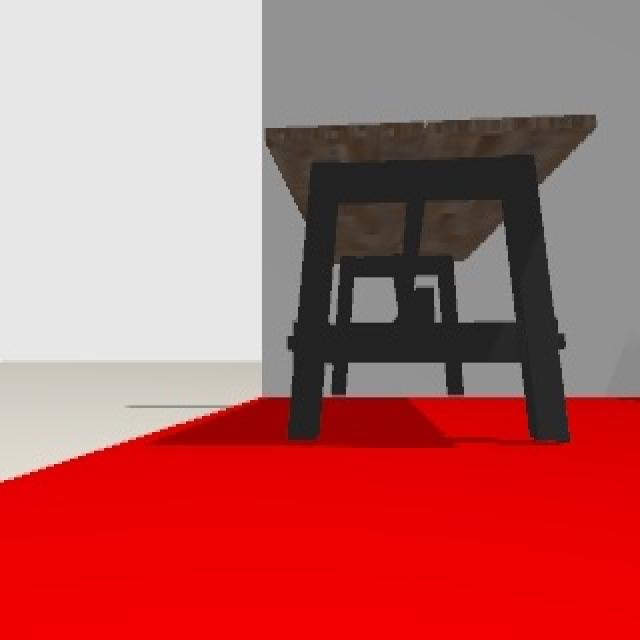dining: (266, 109, 599, 445)
